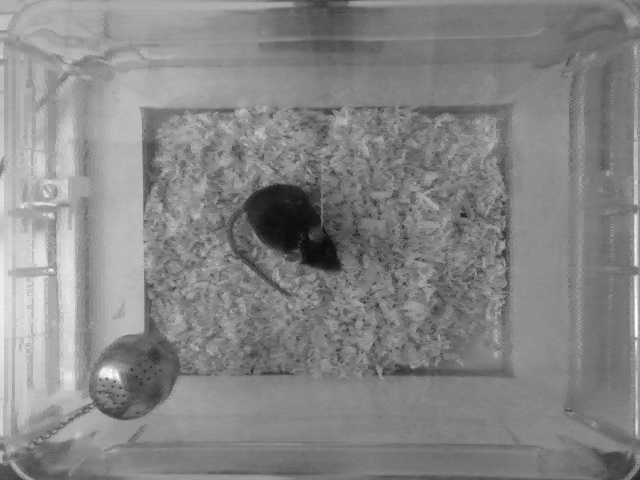mice: (222, 172, 337, 302)
